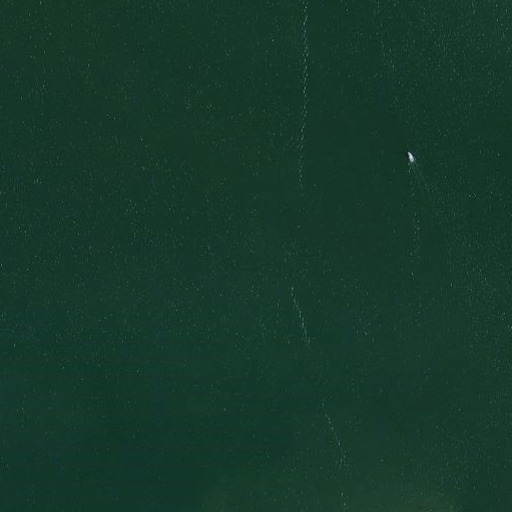ship: (404, 149, 417, 166)
